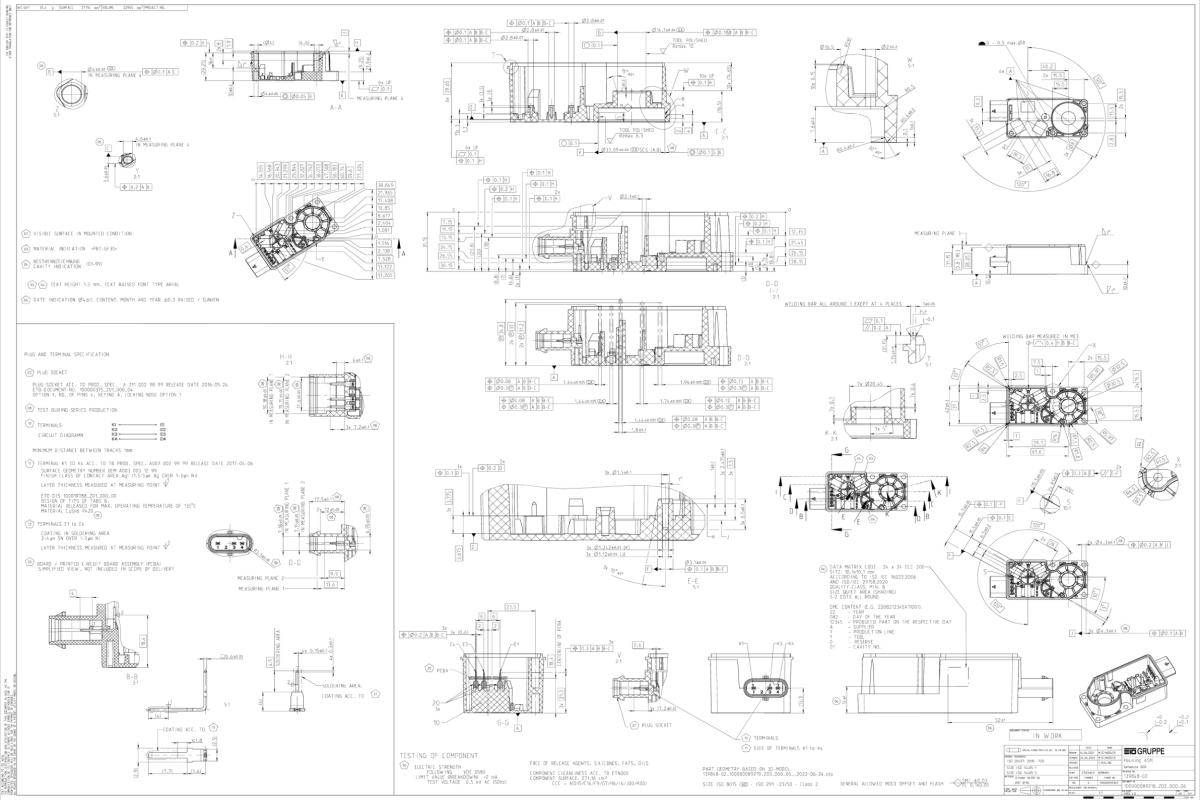falcon_r1: (423, 437, 781, 621), (424, 13, 770, 174), (418, 160, 826, 294), (462, 297, 796, 443), (924, 487, 1191, 649), (950, 26, 1145, 212), (396, 594, 626, 749), (204, 145, 419, 302), (943, 323, 1163, 466), (147, 21, 418, 123), (906, 210, 1159, 309), (199, 470, 386, 600), (784, 26, 935, 171), (694, 616, 841, 764), (769, 274, 959, 385), (767, 444, 971, 547), (246, 335, 391, 460), (249, 615, 388, 731), (28, 580, 165, 687), (27, 47, 191, 127), (808, 361, 939, 454), (83, 122, 214, 210), (603, 637, 693, 746), (1001, 460, 1130, 523), (130, 717, 242, 786), (1117, 431, 1190, 516)
